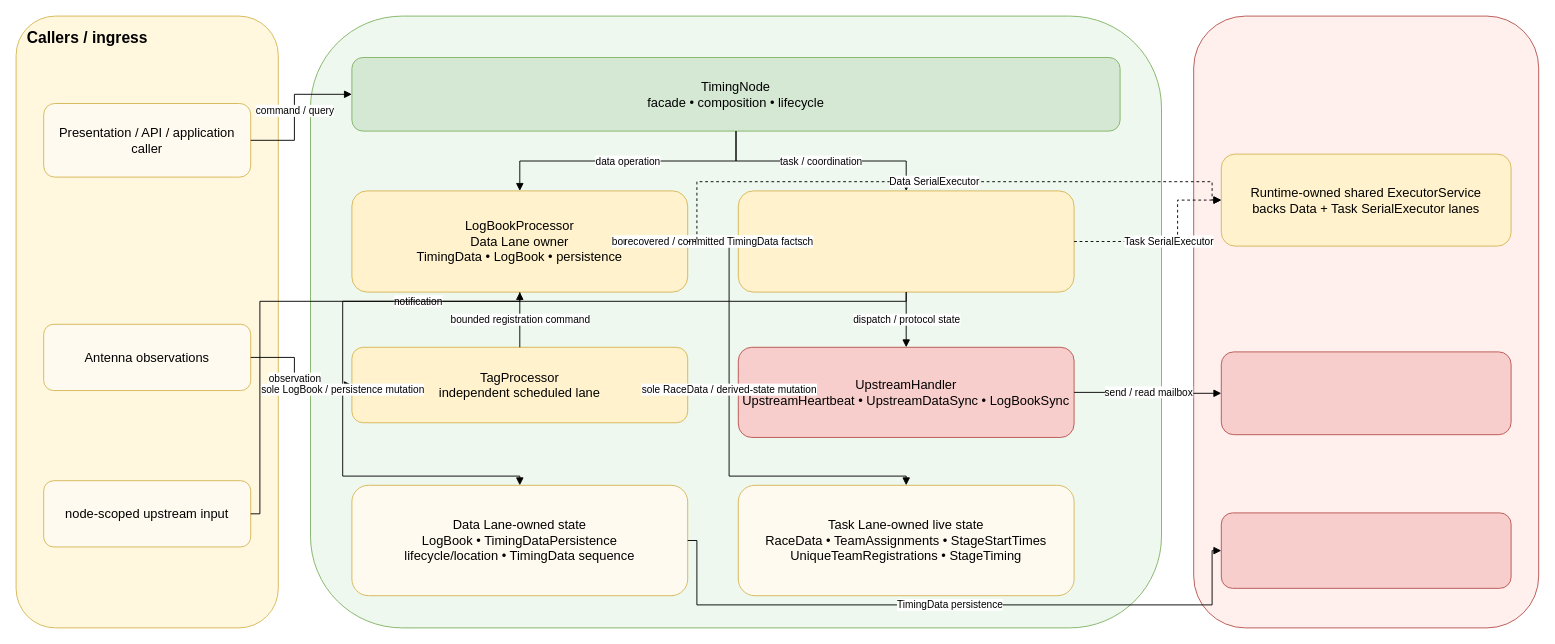
The diagram is 1555 pixels wide and 644 high, and some of its shapes have lost their labels. Here are the shapes that lost their labels. From the top down, the box of each, then its label:
(737, 190, 1074, 292): NodeTaskProcessor Task Lane owner RaceData • derived timing • protocol
(310, 15, 1162, 628): TimingNode component
(1193, 15, 1539, 628): Runtime / I/O
(1220, 351, 1511, 435): UpstreamStream non-blocking messaging mailbox
(1220, 512, 1511, 588): AppendOnlyRecordStore FileAppendOnlyRecordStore
